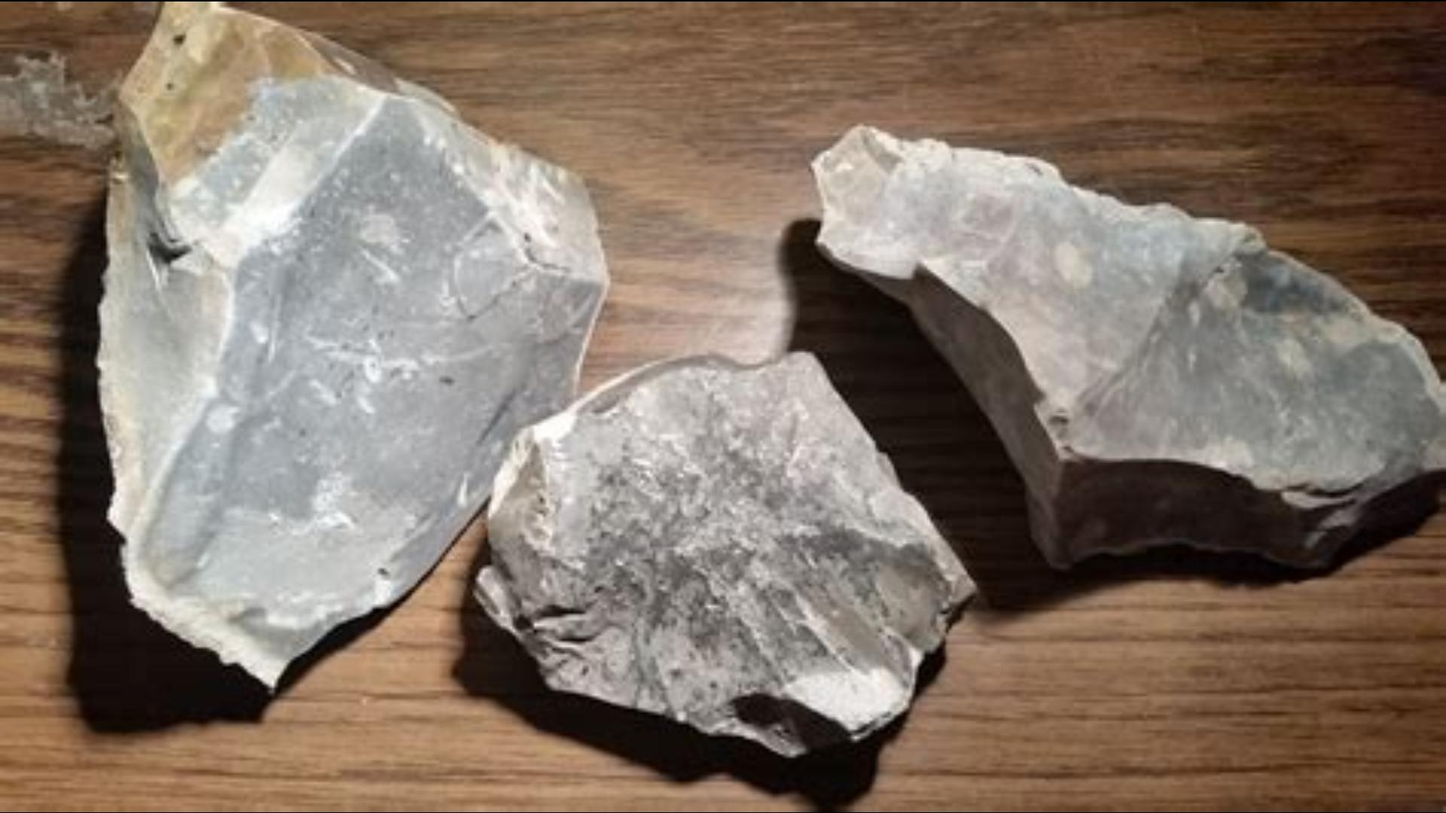rock: (97, 3, 607, 691), (811, 119, 1443, 570), (476, 351, 973, 754)
